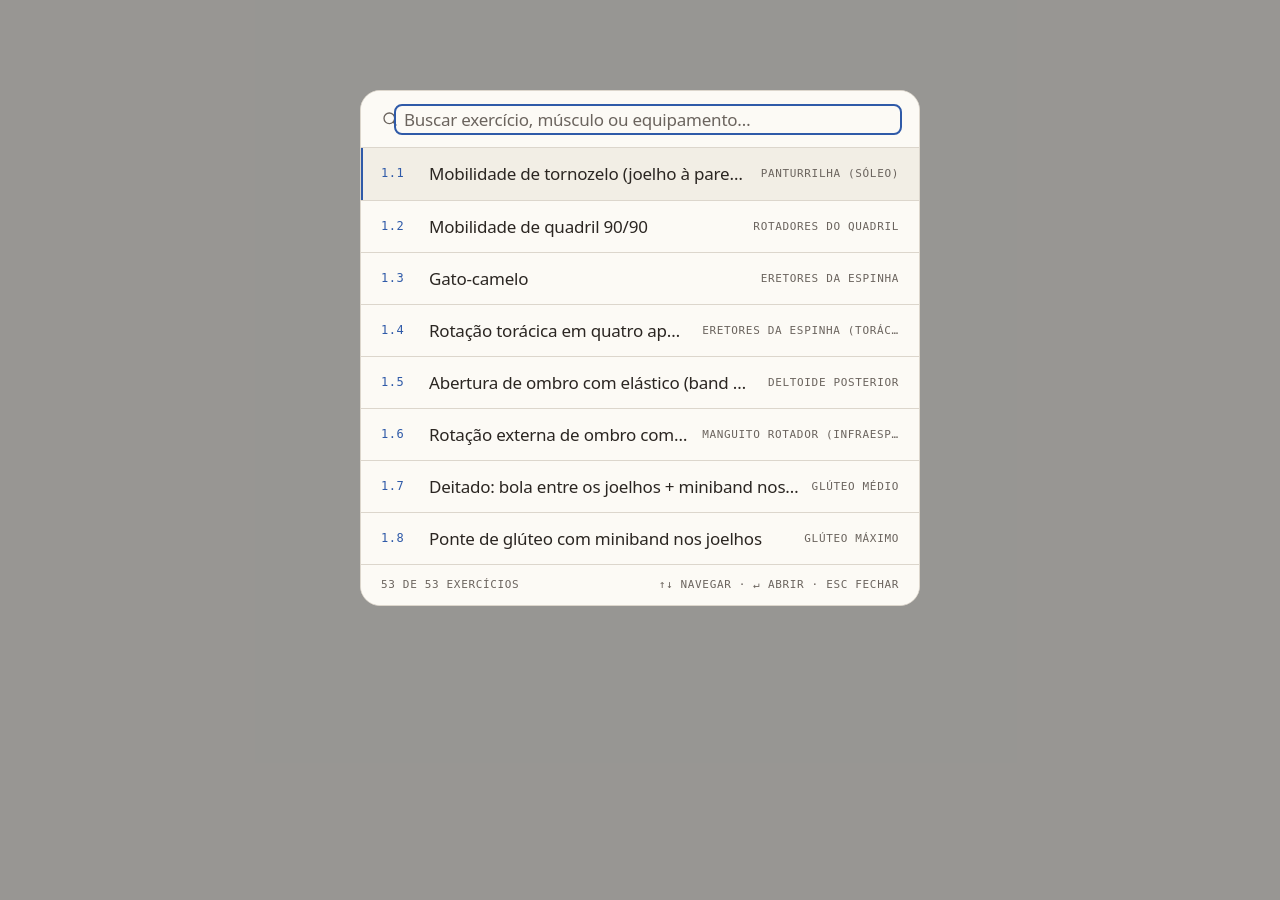
it: Busca › acha resultado acentuado quando o usuário digita sem acento
Step 1. Type "gluteo" into the dropdown → [648, 119], box [398,108,898,130]
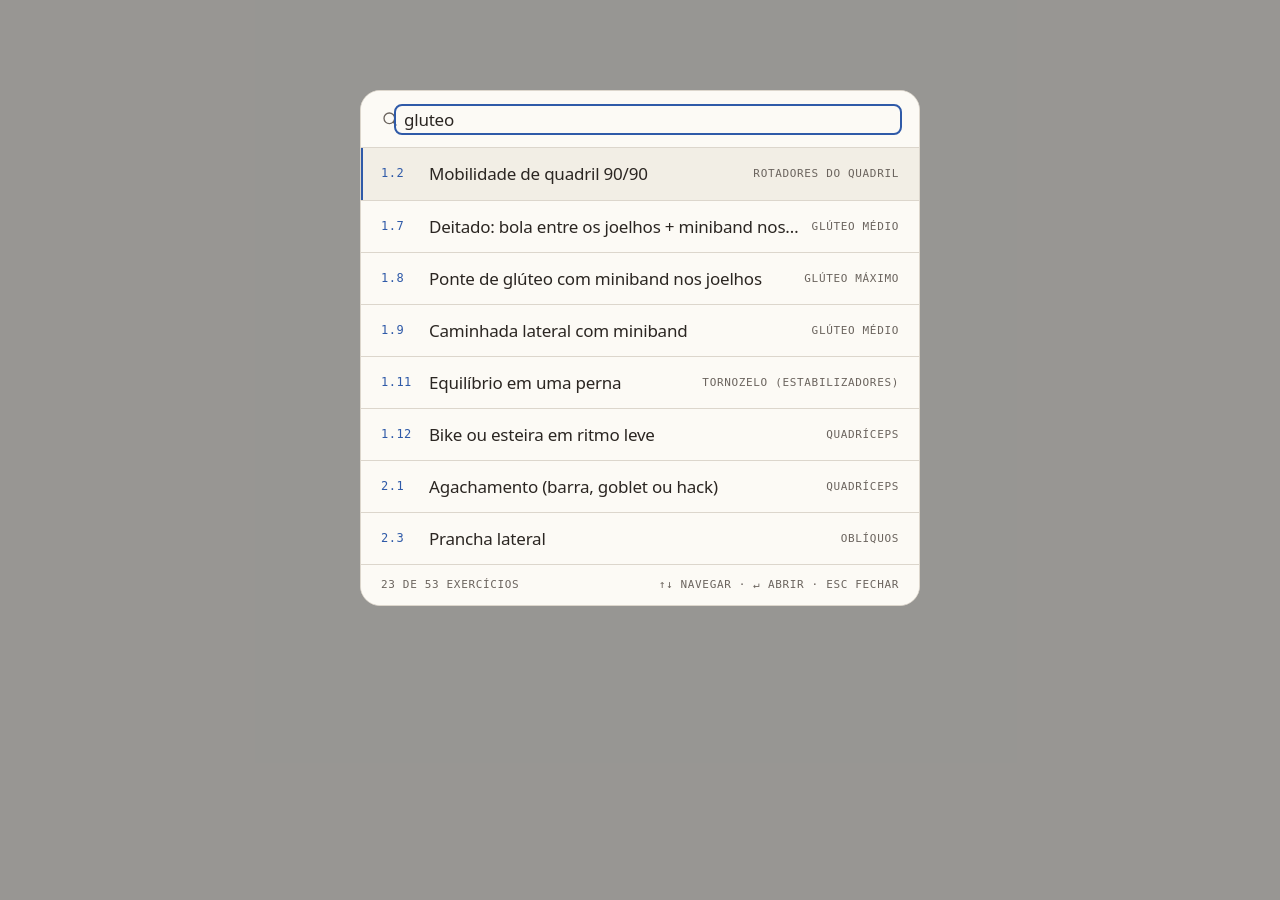
expect the text "Caminhada lateral com miniband" is shown: met, box [429,318,688,342]
